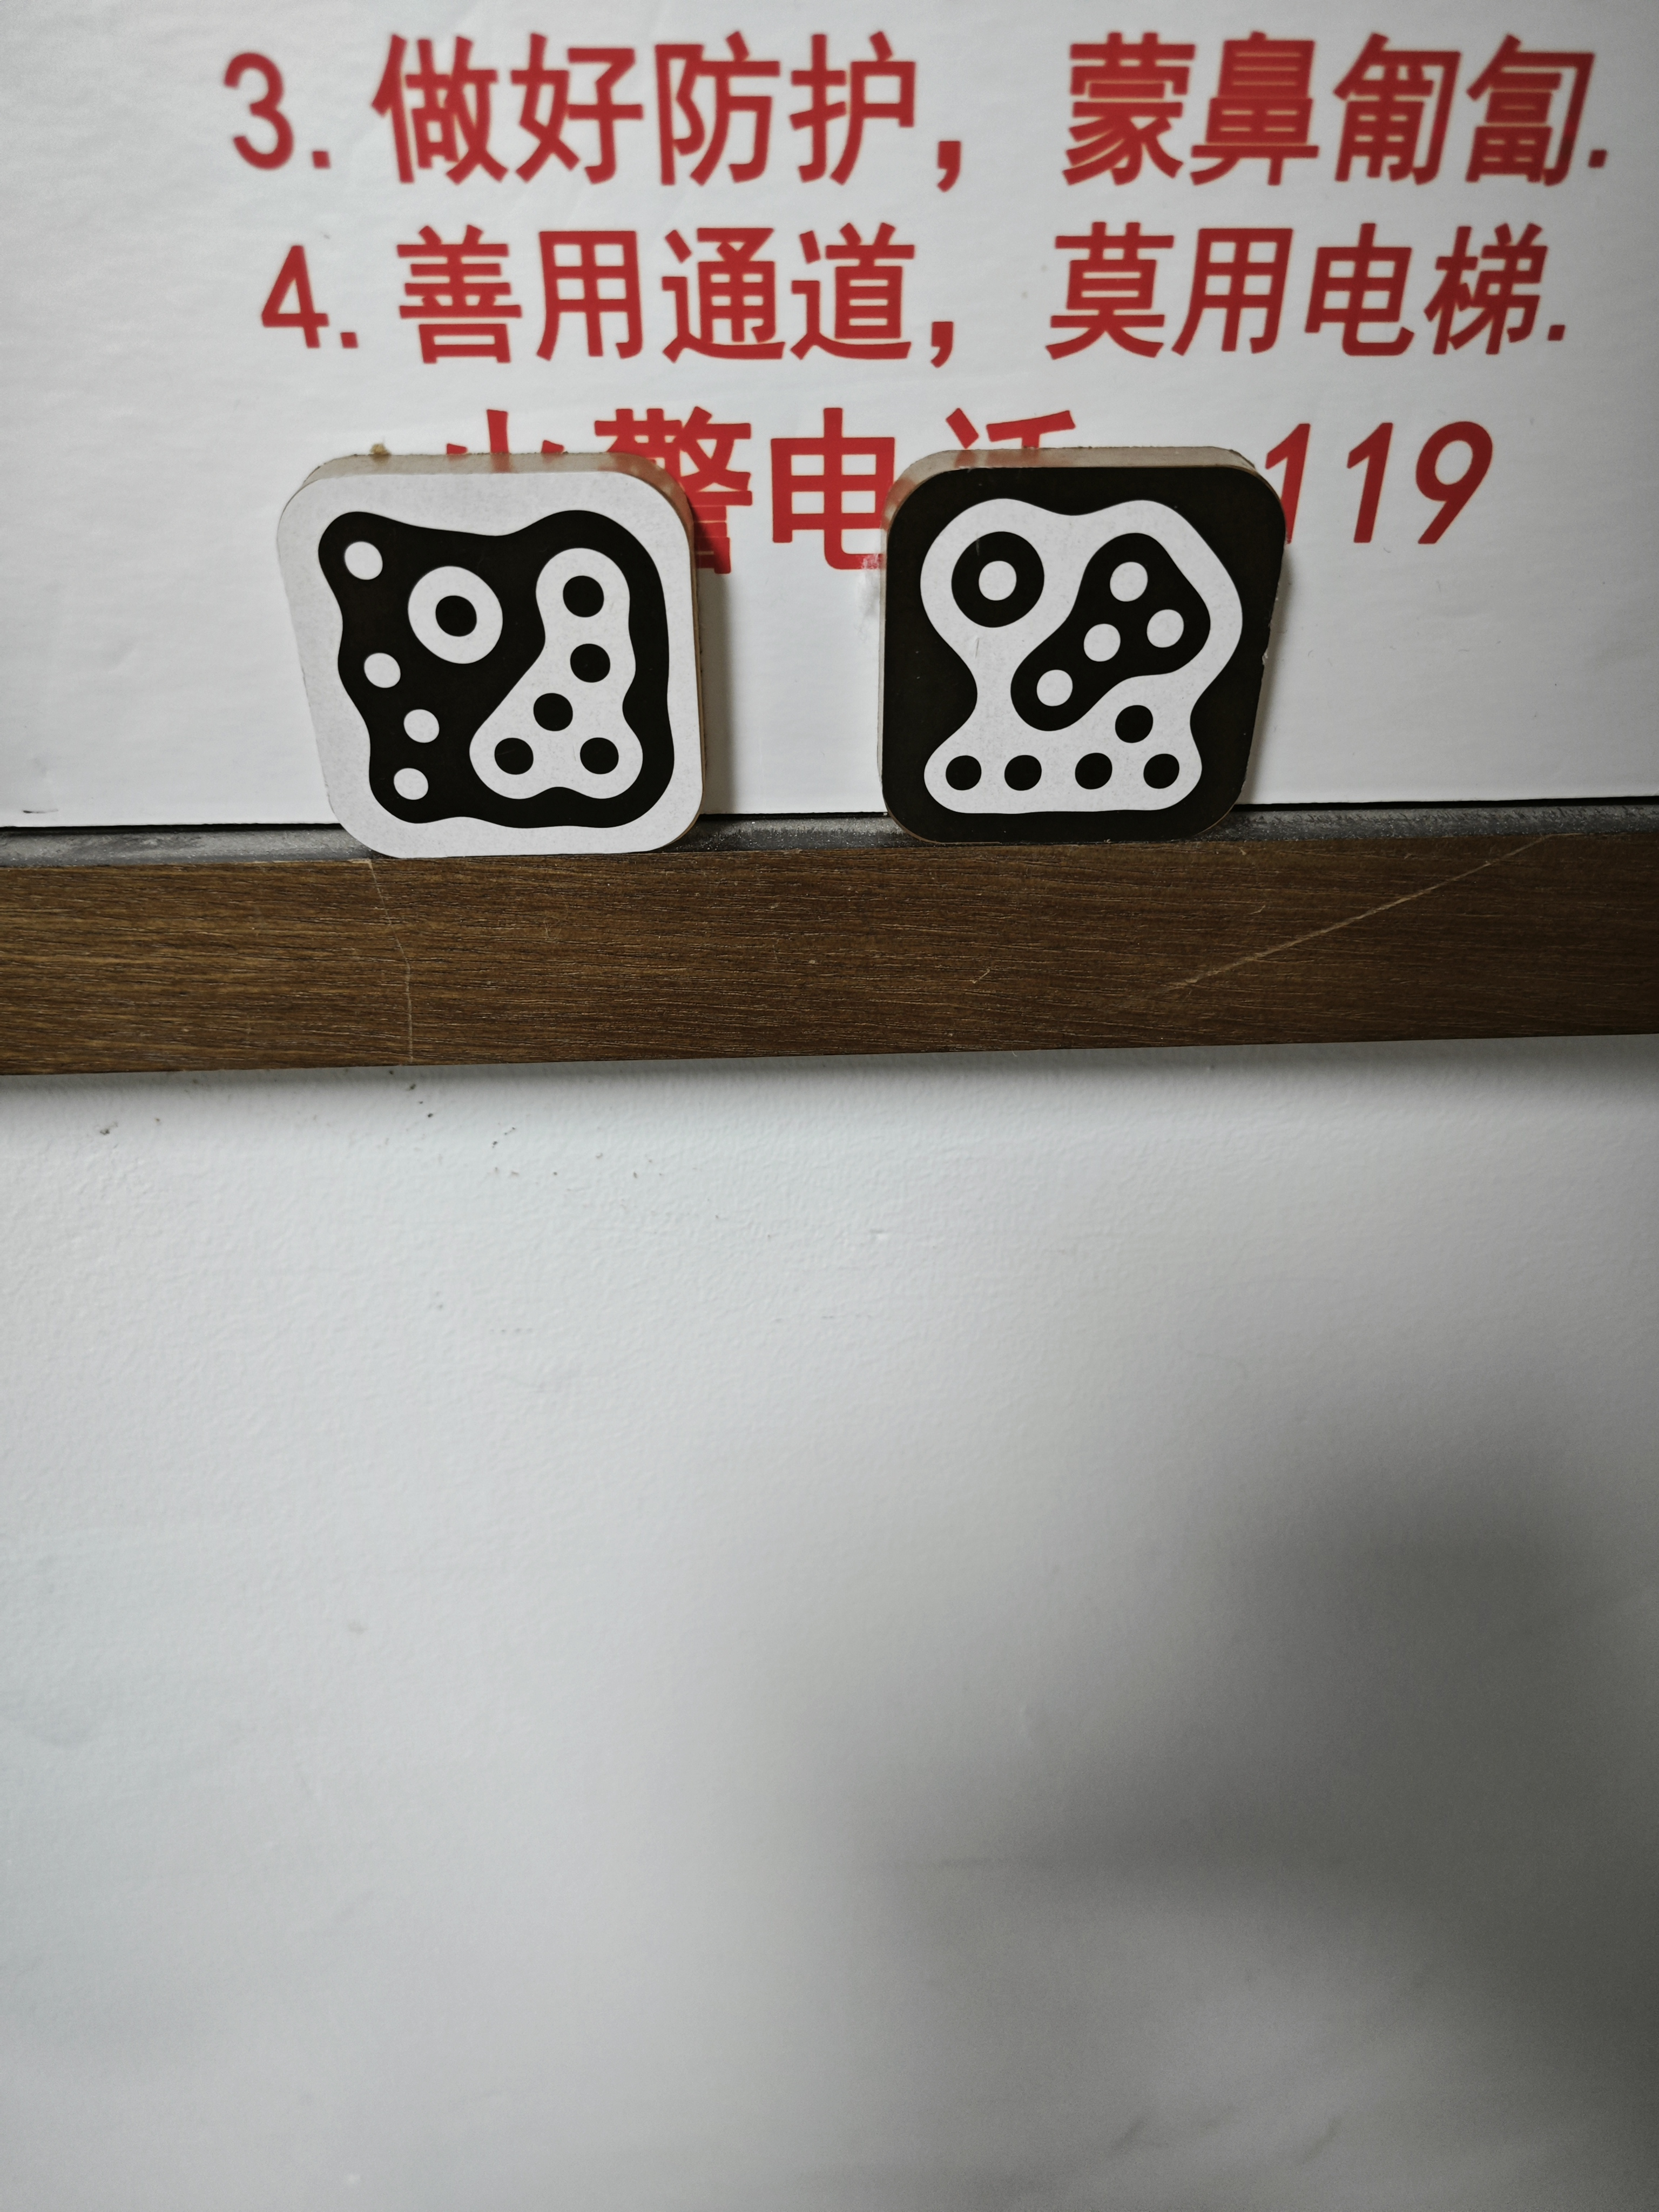mark1: (310, 502, 683, 838)
mark2: (913, 491, 1244, 826)
